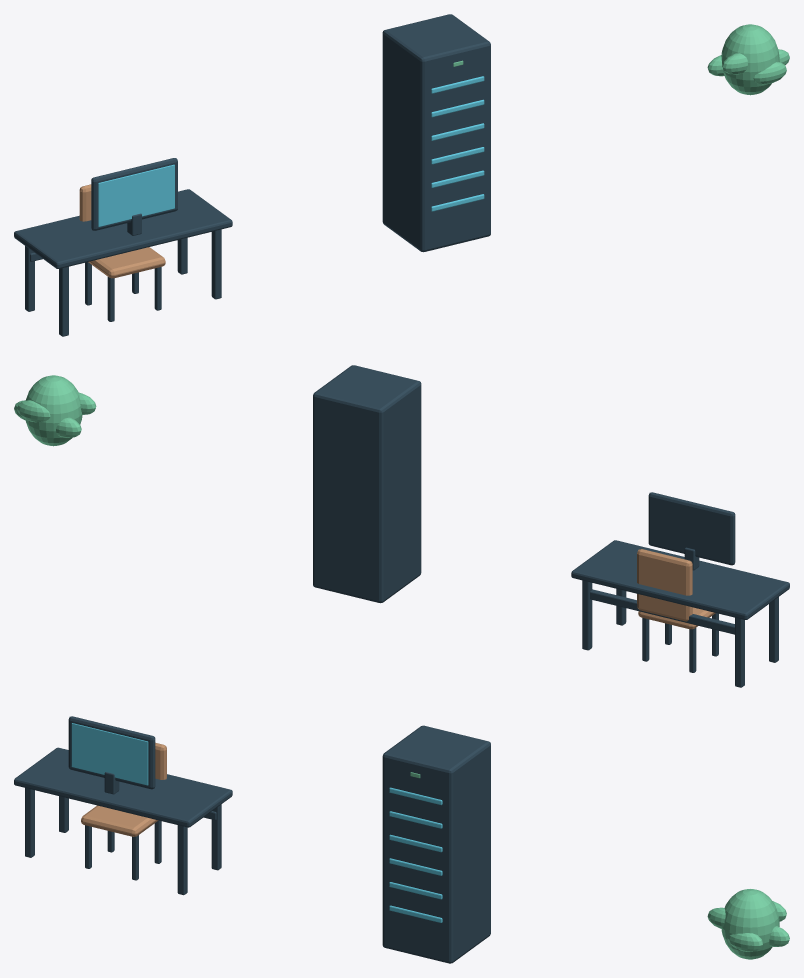
The model's file is studio-kit.glb.
3 views of the same model, one above another, from view 1: azimuth 30°, elevation 25°; view 2: azimuth 150°, elevation 25°; view 3: azimuth 330°, elevation 25° (orthographic).
Visible parts, largest first — view 1: SM_ServerRack_A, SM_Desk_A, SM_MonitorScreen_A, SM_AgentOrb_A, SM_ChairSeat_A, SM_Monitor_A, SM_DeskLeg_A.002, SM_DeskLeg_A, SM_DeskLeg_A.001; view 2: SM_ServerRack_A, SM_Desk_A, SM_Monitor_A, SM_ChairBack_A, SM_AgentOrb_A, SM_DeskRail_A, SM_DeskLeg_A.003, SM_DeskLeg_A.001, SM_DeskLeg_A; view 3: SM_ServerRack_A, SM_Desk_A, SM_MonitorScreen_A, SM_AgentOrb_A, SM_Monitor_A, SM_ChairSeat_A, SM_DeskLeg_A.002, SM_DeskLeg_A, SM_DeskLeg_A.003, SM_PlantLeaf_A.004.
Boxes of the visible parts, bbox=[...] form: SM_ServerRack_A: bbox=[382, 14, 490, 252]; SM_Desk_A: bbox=[14, 189, 232, 268]; SM_MonitorScreen_A: bbox=[98, 164, 174, 226]; SM_AgentOrb_A: bbox=[721, 24, 779, 95]; SM_ChairSeat_A: bbox=[88, 247, 165, 278]; SM_Monitor_A: bbox=[91, 158, 177, 230]; SM_DeskLeg_A.002: bbox=[211, 229, 221, 299]; SM_DeskLeg_A: bbox=[59, 266, 68, 336]; SM_DeskLeg_A.001: bbox=[25, 246, 34, 311]; SM_ServerRack_A: bbox=[313, 365, 421, 603]; SM_Desk_A: bbox=[571, 540, 789, 619]; SM_Monitor_A: bbox=[648, 492, 735, 565]; SM_ChairBack_A: bbox=[637, 549, 692, 621]; SM_AgentOrb_A: bbox=[25, 375, 82, 446]; SM_DeskRail_A: bbox=[590, 589, 734, 634]; SM_DeskLeg_A.003: bbox=[582, 580, 592, 650]; SM_DeskLeg_A.001: bbox=[735, 617, 744, 687]; SM_DeskLeg_A: bbox=[769, 597, 778, 662]; SM_ServerRack_A: bbox=[382, 725, 490, 963]; SM_Desk_A: bbox=[14, 747, 232, 827]; SM_MonitorScreen_A: bbox=[71, 723, 148, 785]; SM_AgentOrb_A: bbox=[721, 889, 779, 959]; SM_Monitor_A: bbox=[68, 716, 155, 789]; SM_ChairSeat_A: bbox=[81, 805, 158, 836]; SM_DeskLeg_A.002: bbox=[177, 825, 187, 895]; SM_DeskLeg_A: bbox=[25, 788, 34, 857]; SM_DeskLeg_A.003: bbox=[211, 804, 221, 870]; SM_PlantLeaf_A.004: bbox=[727, 933, 763, 951].
Size of the model in its own units: 7.7 by 1.9 by 0.78.
